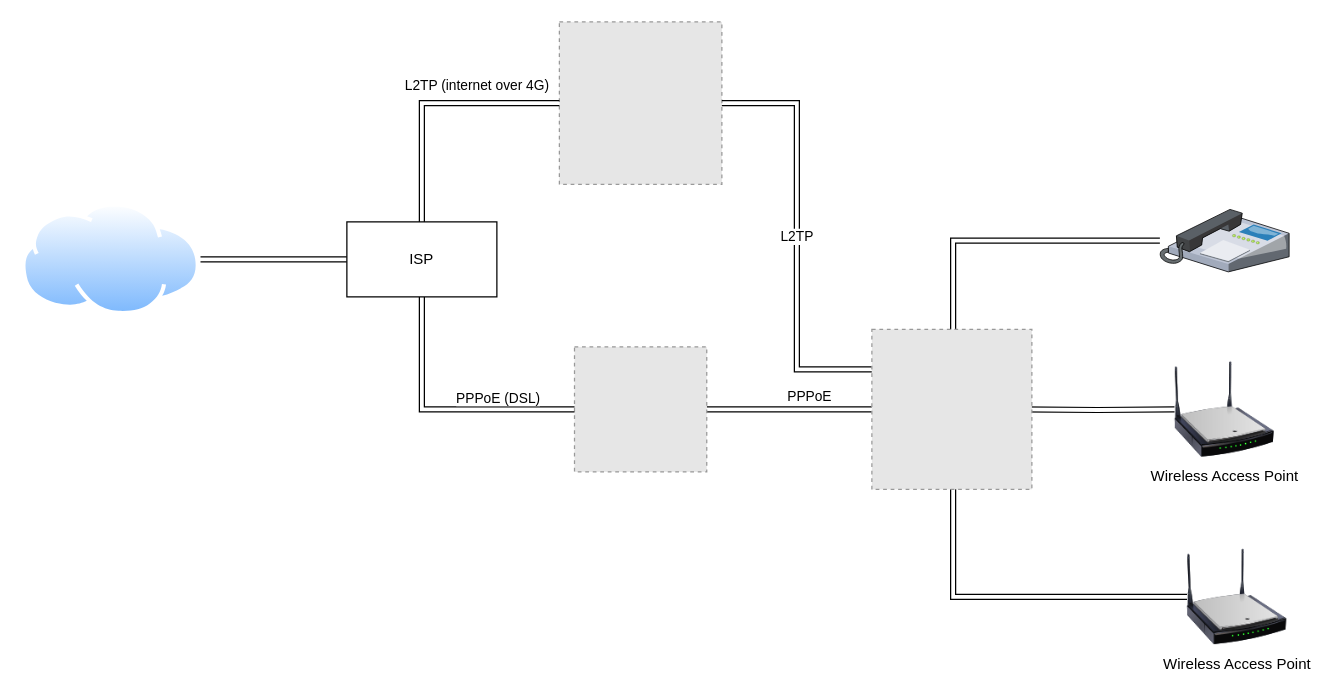
Some shapes in this 1334 by 695 pixel diagram are drawn without their labels. Grey dashed boxes stand in for pictures. The box of each missing label's shape, as (x1, y1, x2, y2) in pixels:
Internet: (21, 202, 200, 315)
Public Static IPv6 Address: (1159, 209, 1288, 271)
